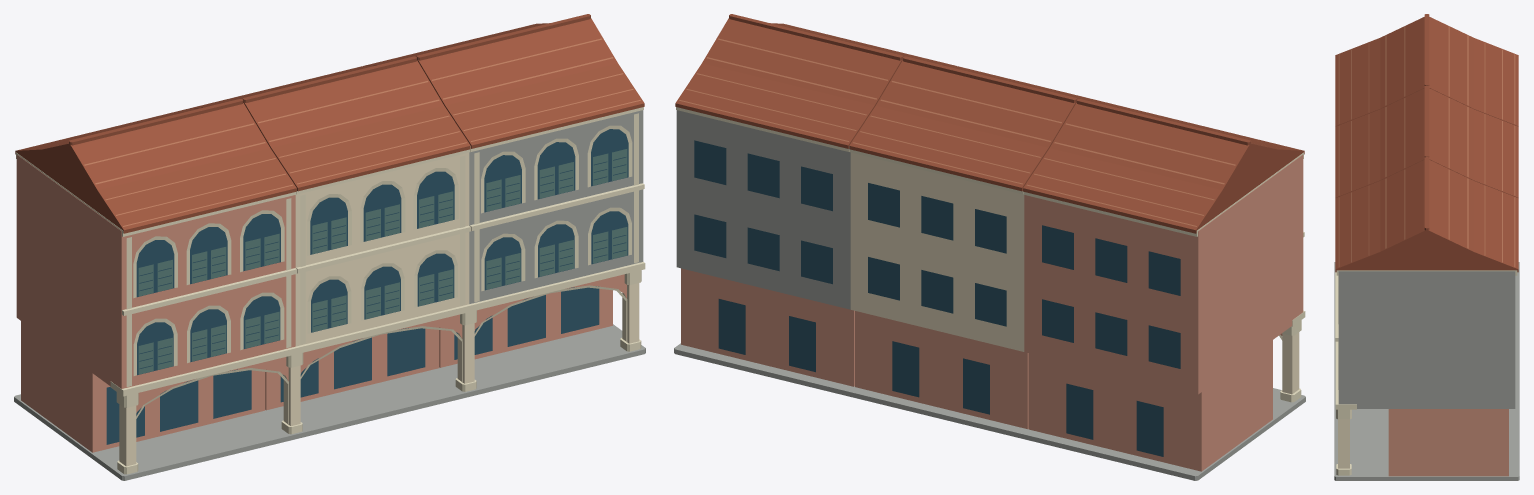
Rendered from building_shophouse.glb.
3 views of the same model, side by side, from view 1: azimuth 30°, elevation 25°; view 2: azimuth 150°, elevation 25°; view 3: azimuth 270°, elevation 25° (orthographic). The views are drawn at different scales.
Parts seen in each view (by area): view 1: building_shophouse; view 2: building_shophouse; view 3: building_shophouse.
Boxes of the visible parts, x1,y1,x2,y2 form: building_shophouse: (14, 14, 645, 480); building_shophouse: (674, 14, 1305, 480); building_shophouse: (1334, 14, 1519, 480).
Bounding box in the file's own units: 22 × 12 × 8.
